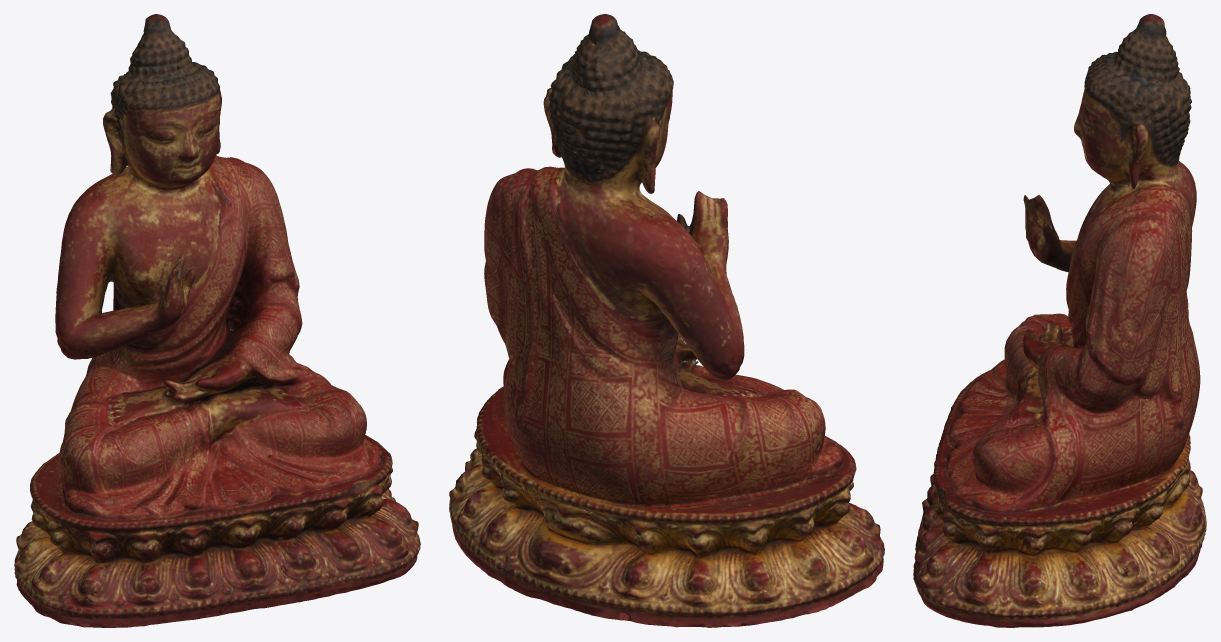
The model's file is source.glb.
3 renders of one model, left to right at view 1: azimuth 30°, elevation 25°; view 2: azimuth 150°, elevation 25°; view 3: azimuth 270°, elevation 25°, orthographic. The views are drawn at different scales.
Parts seen in each view (by area): view 1: Object_3; view 2: Object_3; view 3: Object_3.
Part boxes in pixels (x1,y1,x2,y2): Object_3: [14, 14, 420, 627]; Object_3: [449, 14, 884, 627]; Object_3: [913, 14, 1206, 627].
Bounding box in the file's own units: 0.145 × 0.1969 × 0.0994.
1 material, 1 textured.
